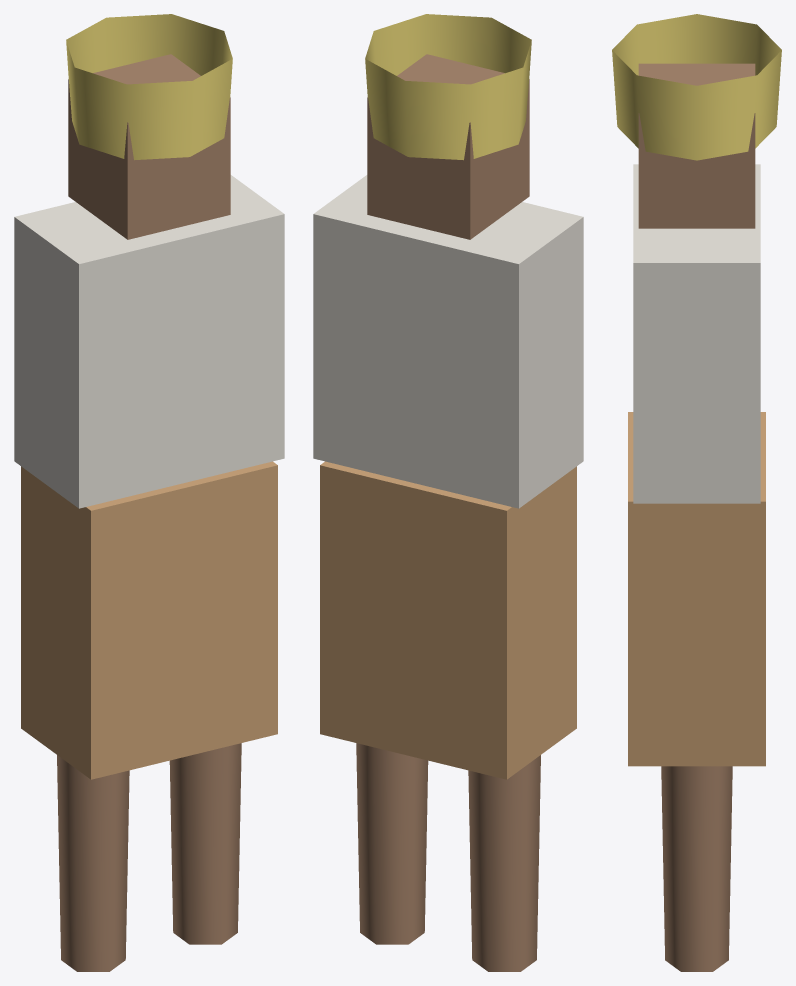
Rendered from selvam.glb.
3 views of the same model, side by side, from view 1: azimuth 30°, elevation 25°; view 2: azimuth 150°, elevation 25°; view 3: azimuth 270°, elevation 25° (orthographic).
Parts seen in each view (by area): view 1: Torso_Node, ShortDhoti_Node, Turban_Node, Head_Node, Leg_L_Node, Leg_R_Node; view 2: Torso_Node, ShortDhoti_Node, Turban_Node, Head_Node, Leg_L_Node, Leg_R_Node; view 3: ShortDhoti_Node, Torso_Node, Turban_Node, Leg_R_Node, Head_Node.
Part boxes in pixels (x1,y1,x2,y2): Torso_Node: (14, 175, 284, 508); ShortDhoti_Node: (21, 461, 277, 779); Turban_Node: (66, 14, 232, 160); Head_Node: (68, 54, 230, 239); Leg_L_Node: (57, 755, 129, 971); Leg_R_Node: (169, 743, 241, 944); Torso_Node: (313, 175, 583, 508); ShortDhoti_Node: (320, 461, 576, 779); Turban_Node: (365, 14, 531, 160); Head_Node: (367, 54, 529, 239); Leg_L_Node: (468, 755, 540, 971); Leg_R_Node: (356, 743, 428, 944); ShortDhoti_Node: (628, 412, 765, 766); Torso_Node: (633, 164, 760, 503); Turban_Node: (612, 14, 781, 160); Leg_R_Node: (661, 766, 732, 971); Head_Node: (638, 63, 755, 228).
Size of the model in its own units: 0.44 by 1.84 by 0.32.
